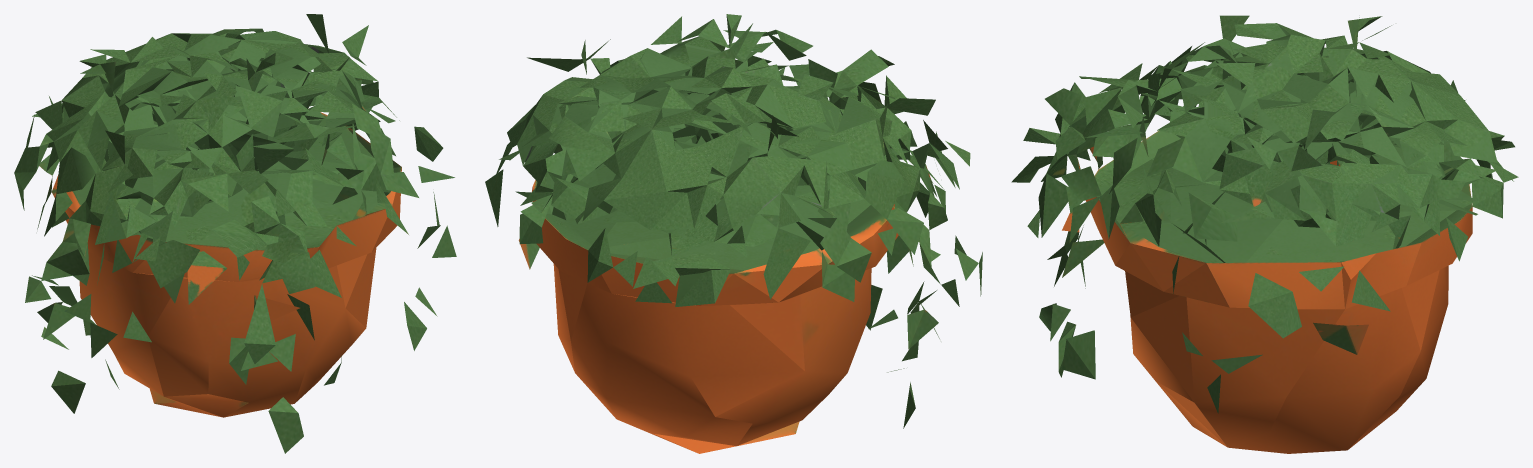
The model's file is herb_pot.glb.
The picture shows the model from 3 angles, left to right: view 1: azimuth 30°, elevation 25°; view 2: azimuth 150°, elevation 25°; view 3: azimuth 270°, elevation 25°; orthographic projection. The views are drawn at different scales.
Bounding box in the file's own units: 1.88 × 1.49 × 1.79.
1 material, 1 textured.
